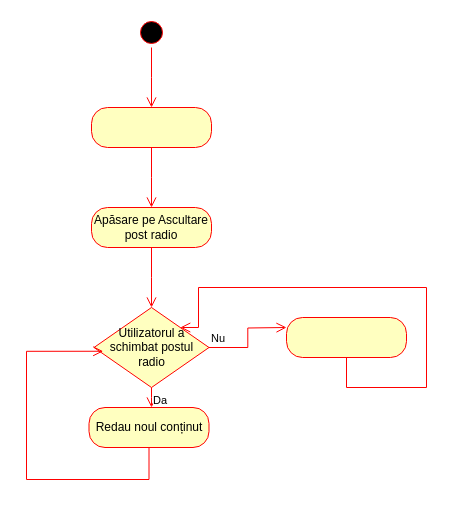
The diagram is 454 pixels wide and 507 high, and some of its shapes have lost their labels. Each missing label, with the centre of its shape:
"Apăsare pe Meniu" goes at [151,127].
"Redau conținutul curent" goes at [346,337].
